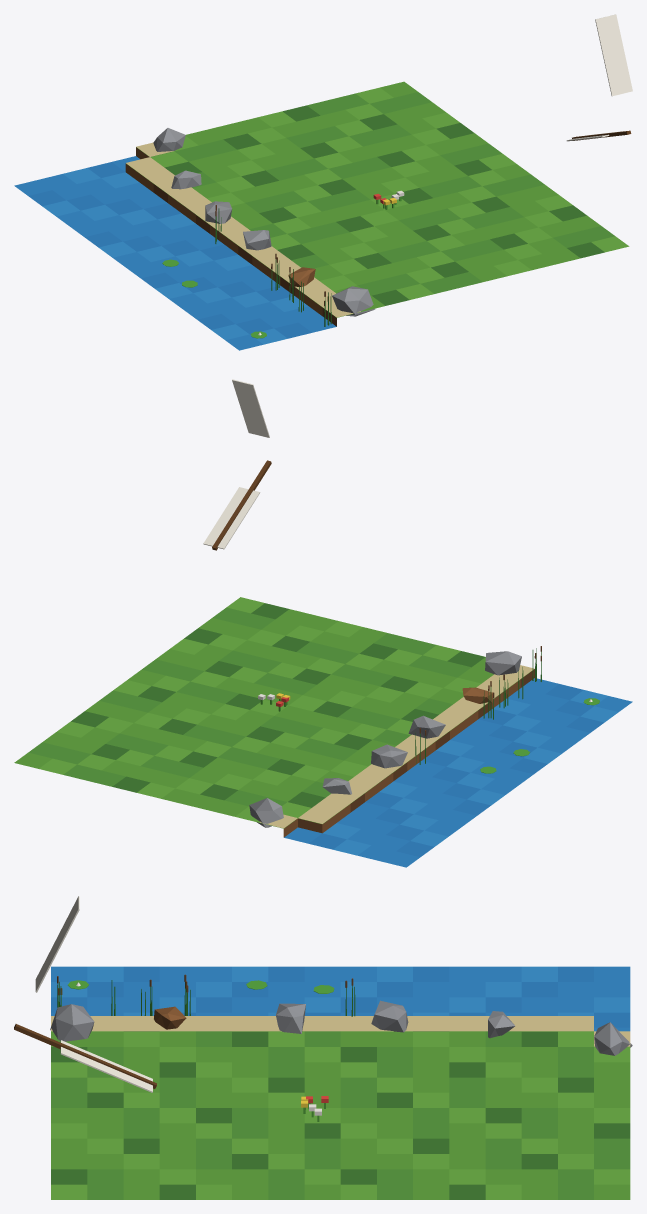
The model's file is chunk_4_9.glb.
The picture shows the model from 3 angles, top to bottom: view 1: azimuth 30°, elevation 25°; view 2: azimuth 150°, elevation 25°; view 3: azimuth 270°, elevation 25°; orthographic projection. The views are drawn at different scales.
Parts seen in each view (by area): view 1: chunk_4_9; view 2: chunk_4_9; view 3: chunk_4_9.
Boxes of the visible parts, x1=… form: chunk_4_9: x1=14, y1=14, x2=632, y2=350; chunk_4_9: x1=14, y1=379, x2=632, y2=867; chunk_4_9: x1=14, y1=896, x2=632, y2=1199.
Size of the model in its own units: 16 by 9.28 by 17.1.
